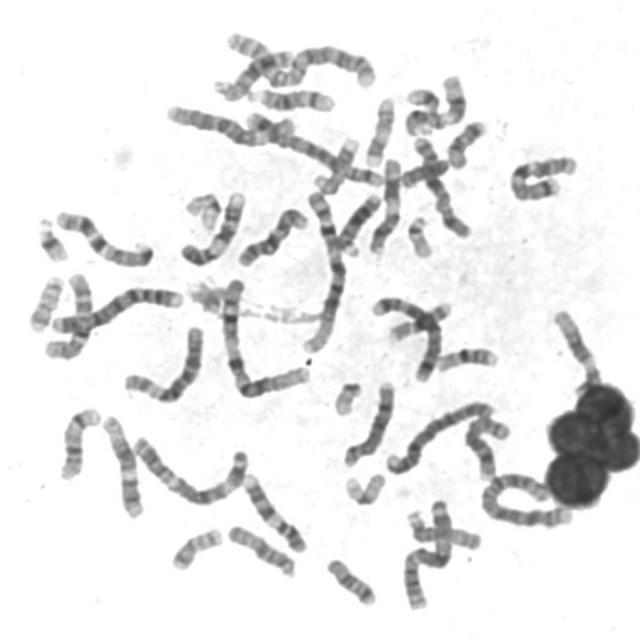A1: (216, 273, 314, 400), (296, 186, 349, 357)
A2: (222, 26, 379, 91), (477, 467, 577, 531)
A3: (127, 430, 253, 508), (398, 494, 456, 612)
B4: (380, 395, 498, 478), (46, 282, 185, 336)
B5: (239, 106, 386, 188), (365, 292, 443, 384)
C10: (39, 267, 97, 362), (233, 202, 311, 270)
C11: (400, 69, 469, 137), (364, 152, 404, 258)
C12: (549, 306, 604, 418), (98, 410, 147, 520)
C6: (119, 320, 206, 404), (160, 98, 298, 148)
C7: (51, 204, 157, 270), (504, 149, 582, 203)
C8: (338, 376, 398, 468), (459, 411, 515, 482)
C9: (238, 467, 310, 555), (174, 186, 250, 268)
D13: (208, 43, 297, 103), (330, 188, 384, 258)
D14: (54, 402, 104, 482), (246, 83, 338, 114)
D15: (223, 519, 299, 580), (402, 505, 486, 552)
E16: (384, 297, 454, 345), (432, 342, 500, 375)
E17: (310, 133, 362, 195), (360, 92, 397, 168)
E18: (321, 553, 379, 609), (443, 115, 489, 171)
F19: (180, 187, 224, 232), (340, 468, 389, 507)
F20: (166, 522, 226, 572), (23, 271, 66, 333)
G21: (32, 214, 71, 264), (403, 84, 442, 116)
G22: (402, 210, 437, 260), (329, 376, 365, 418)
X: (408, 131, 475, 241)
Y: (396, 153, 452, 190)
